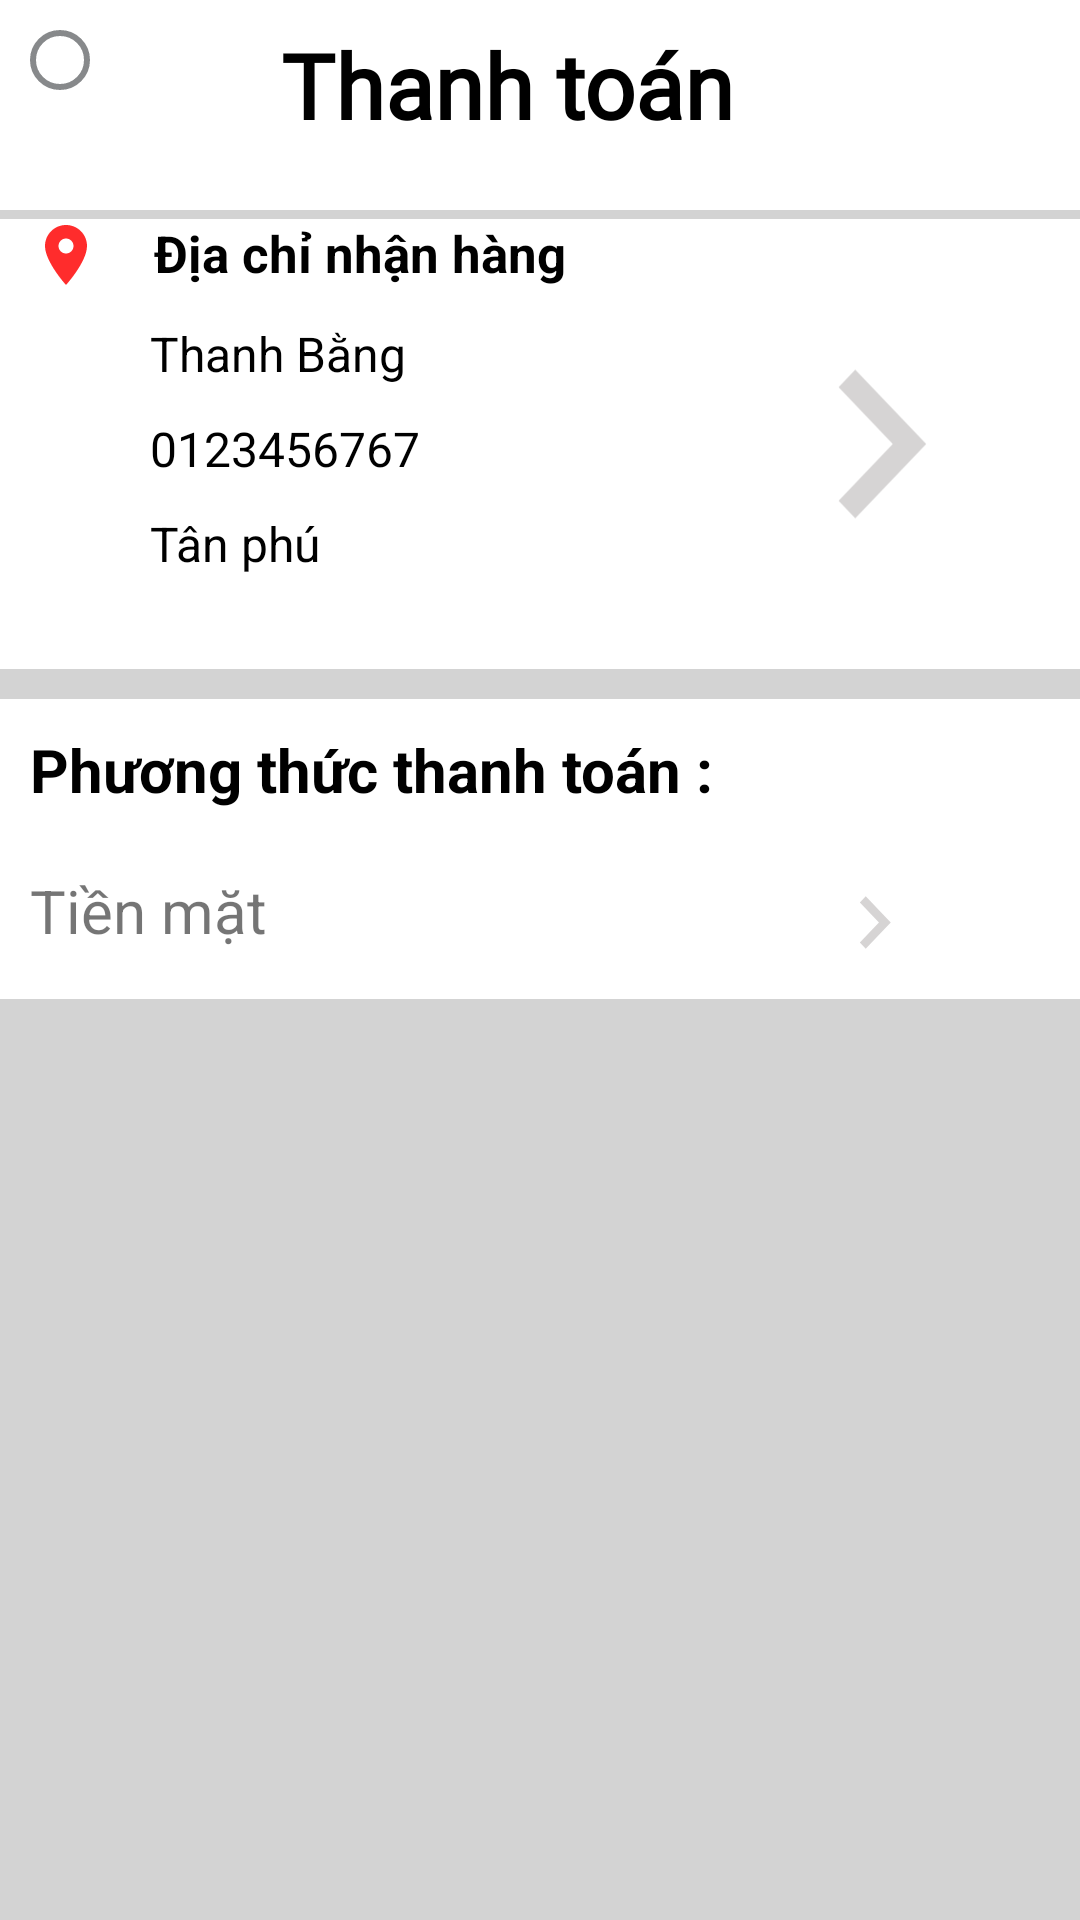

Where icons sit on this 1080px×1920px app screen, as rect(x1, y1, x2, y2):
keyboard arrow right: rect(839, 370, 926, 518), rect(860, 897, 890, 948)
